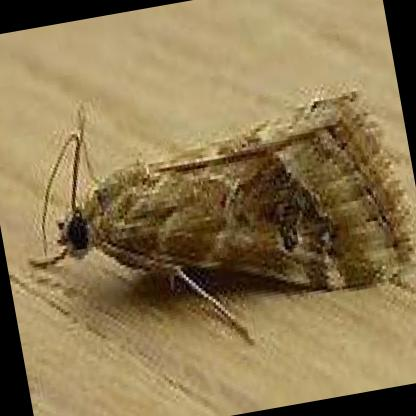Hellula undalis: (18, 72, 414, 348)
